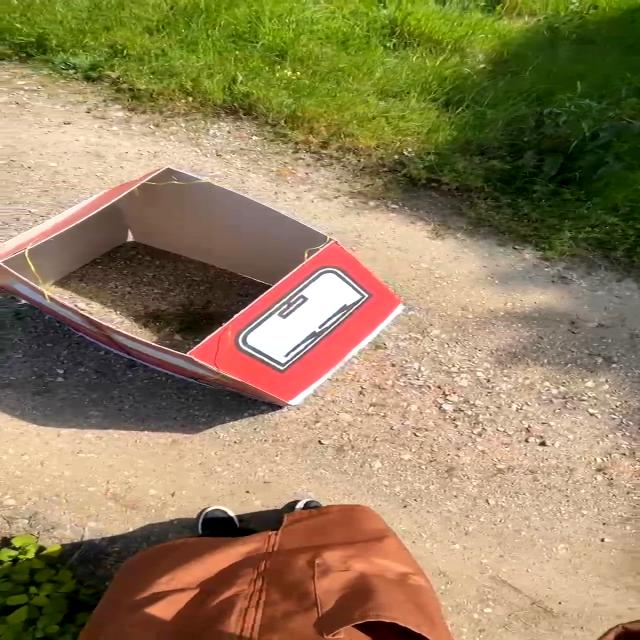red_car: (0, 150, 434, 430)
